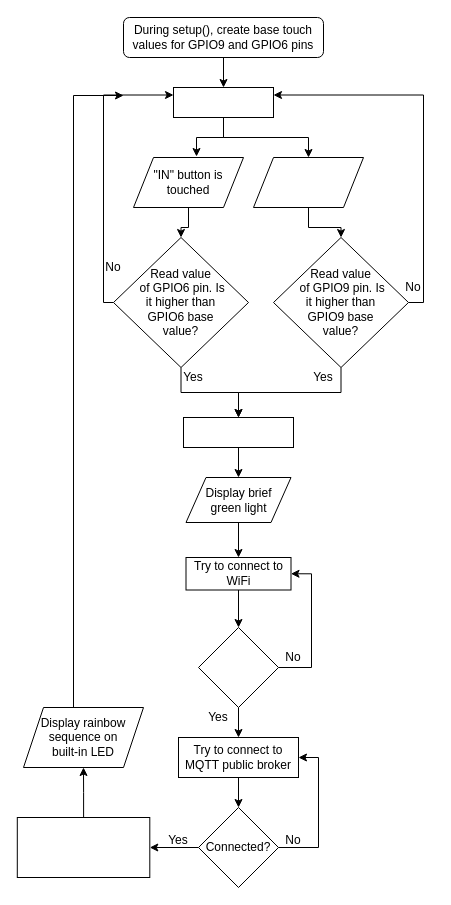
Image size: 451x905. Some labels were removed from this diagram. The box of each missing label's shape, as (x1, y1, x2, y2) in pixels:
"OUT" button is touched: (252, 156, 364, 208)
Call connectToBroker(): (182, 416, 294, 448)
Connected to WiFi?: (198, 626, 278, 708)
Publish message (either "IN" or "OUT") to topic esp32/catmessage: (16, 816, 150, 878)
Wait for input: (172, 86, 274, 118)
